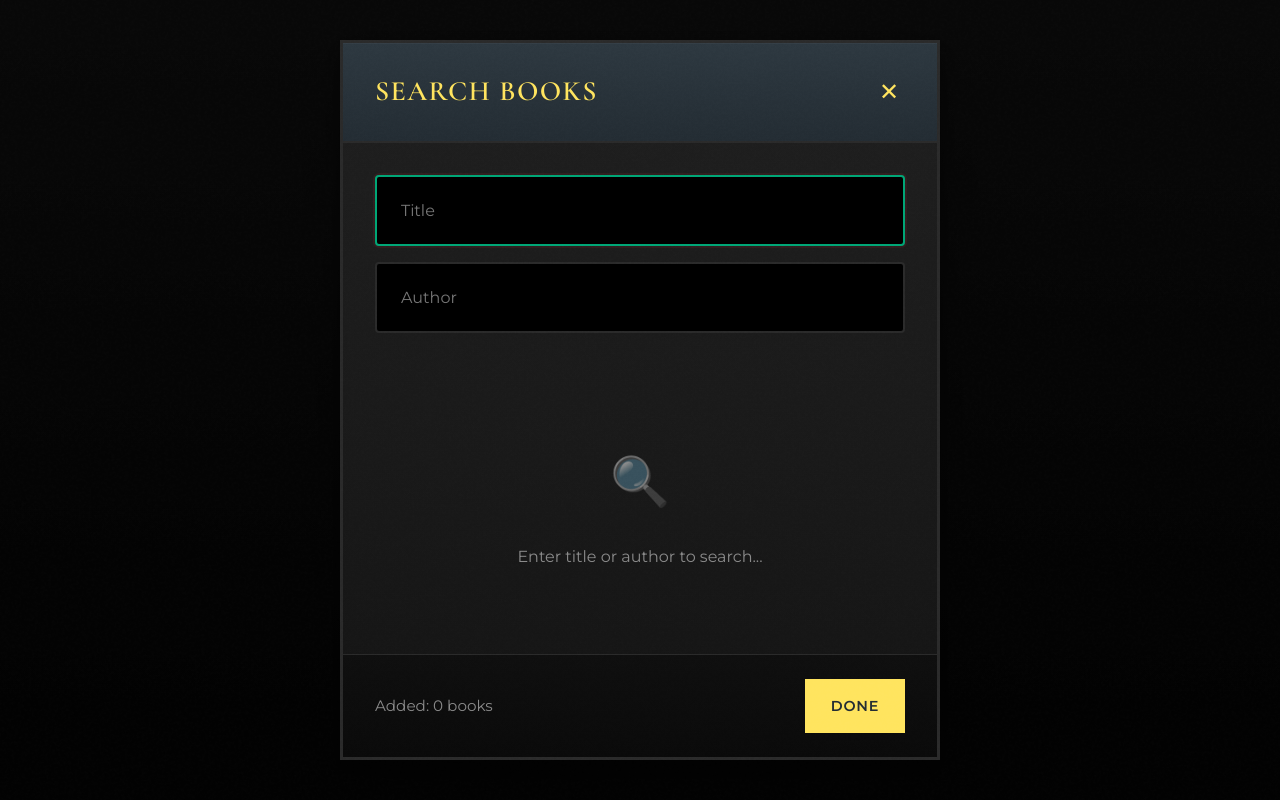
BookSearchModal › does not search until one query has at least two characters
Step 1. Type "D" into the field with placeholder "Title" → (640, 210), box [375,175,905,246]
Wait 500 ms
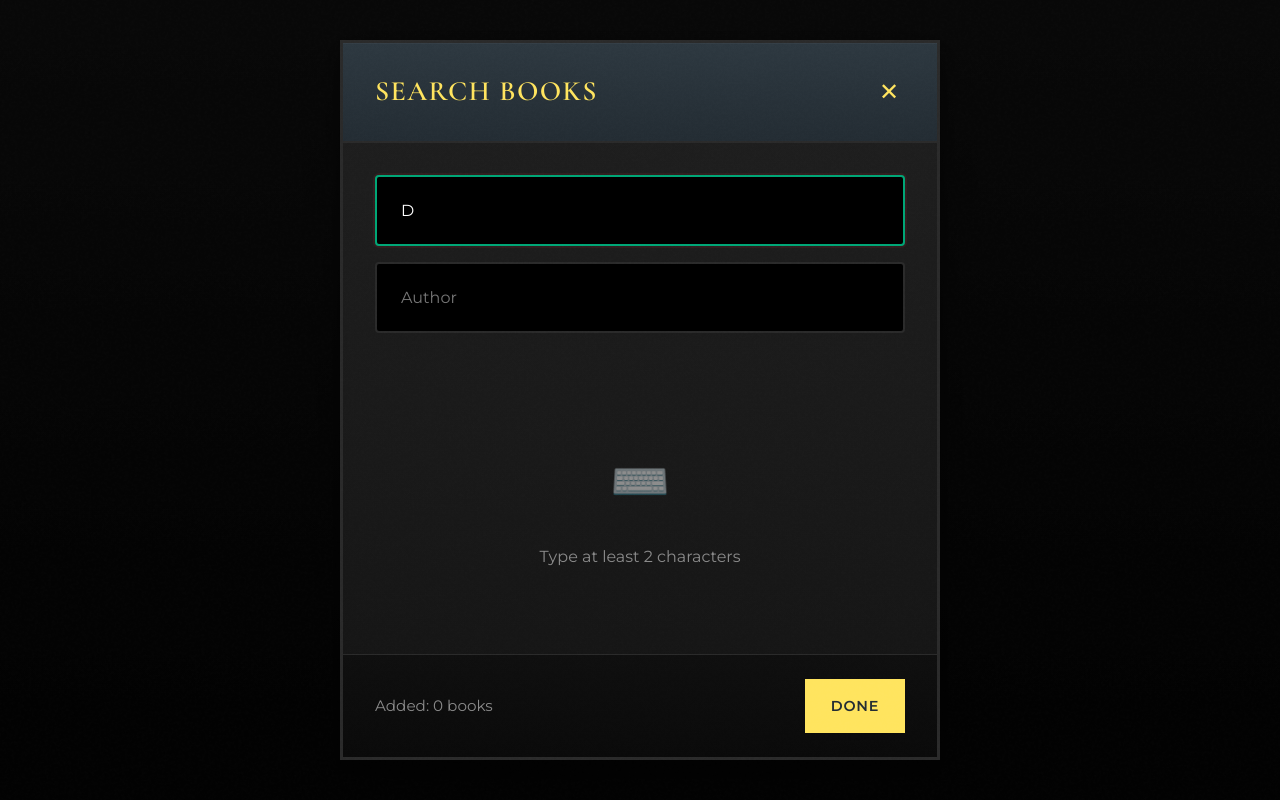
Expected: the text "Type at least 2 characters" is shown, [539,544,740,570]
